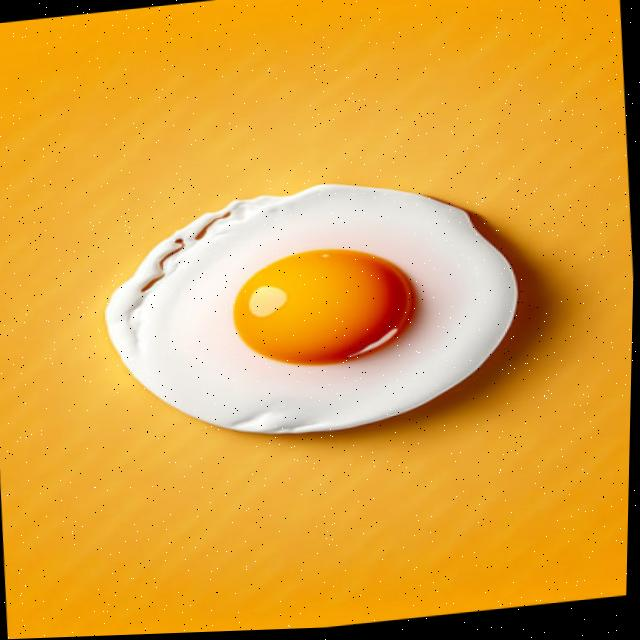Egg: (108, 185, 518, 433)
